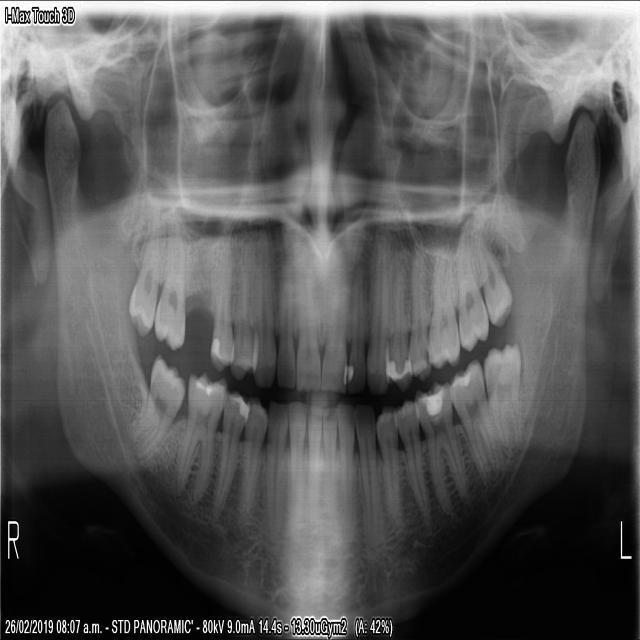LCD: (356, 404, 382, 524)
LCU: (365, 240, 389, 391)
LID: (337, 399, 354, 512), (322, 402, 338, 518)
LIU: (321, 244, 349, 394), (347, 247, 367, 391)
LMD: (412, 379, 471, 513), (447, 357, 506, 488), (484, 338, 524, 460)
LMU: (453, 243, 493, 357), (429, 243, 459, 372), (477, 240, 514, 335)
LPMD: (394, 399, 435, 526), (376, 405, 404, 537)
LPMU: (384, 247, 411, 397), (407, 235, 431, 388)
RCD: (266, 397, 287, 533)
RCU: (252, 235, 276, 393)
RID: (302, 396, 323, 519), (286, 397, 305, 532)
RIU: (290, 232, 321, 397), (274, 227, 295, 393)
RMD: (172, 365, 226, 508), (127, 355, 186, 462)
RMU: (152, 229, 188, 352), (128, 227, 164, 340)
RPMD: (211, 390, 248, 522), (237, 396, 268, 518)
RPMU: (209, 229, 232, 376), (233, 229, 254, 380)
